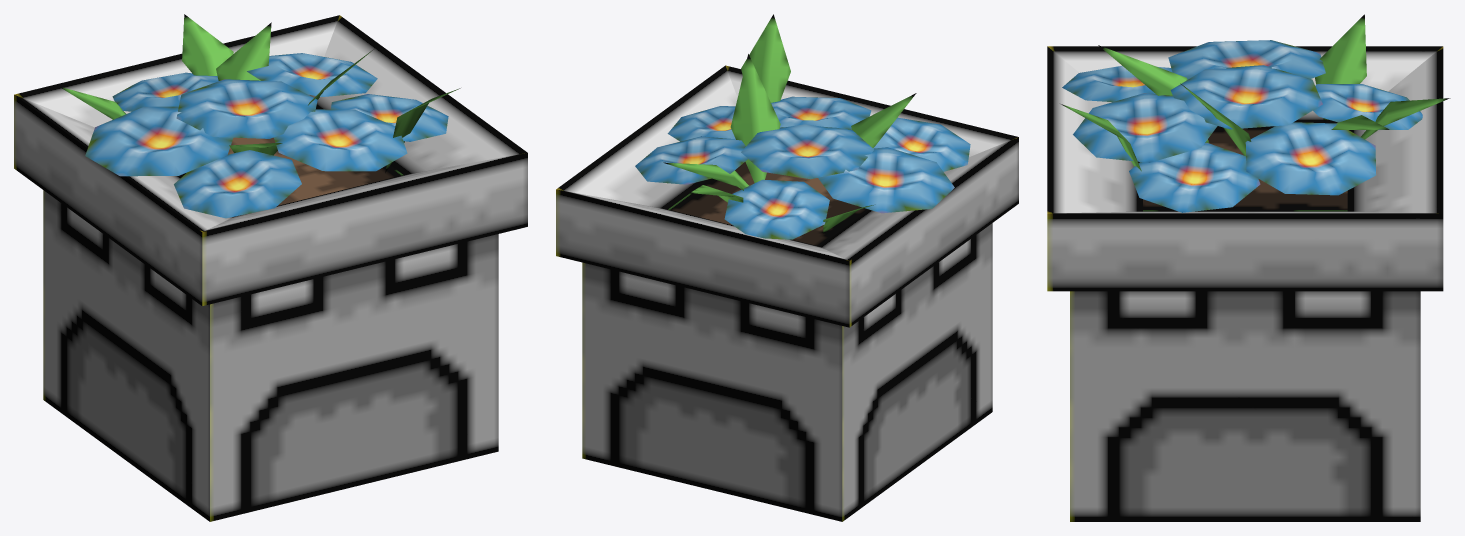
Rendered from deco_stonePot_flowersBlue.FBX.
3 renders of one model, left to right at view 1: azimuth 30°, elevation 25°; view 2: azimuth 150°, elevation 25°; view 3: azimuth 270°, elevation 25°, orthographic. The views are drawn at different scales.
Parts seen in each view (by area): view 1: deco_stonePot_flowersBlue; view 2: deco_stonePot_flowersBlue; view 3: deco_stonePot_flowersBlue.
Part boxes in pixels (left/top/right/bottom): deco_stonePot_flowersBlue: left=14, top=14, right=527, bottom=521; deco_stonePot_flowersBlue: left=556, top=14, right=1018, bottom=521; deco_stonePot_flowersBlue: left=1047, top=14, right=1450, bottom=521.
Bounding box in the file's own units: 1.16 × 1.27 × 1.15.
1 material, 1 textured.
